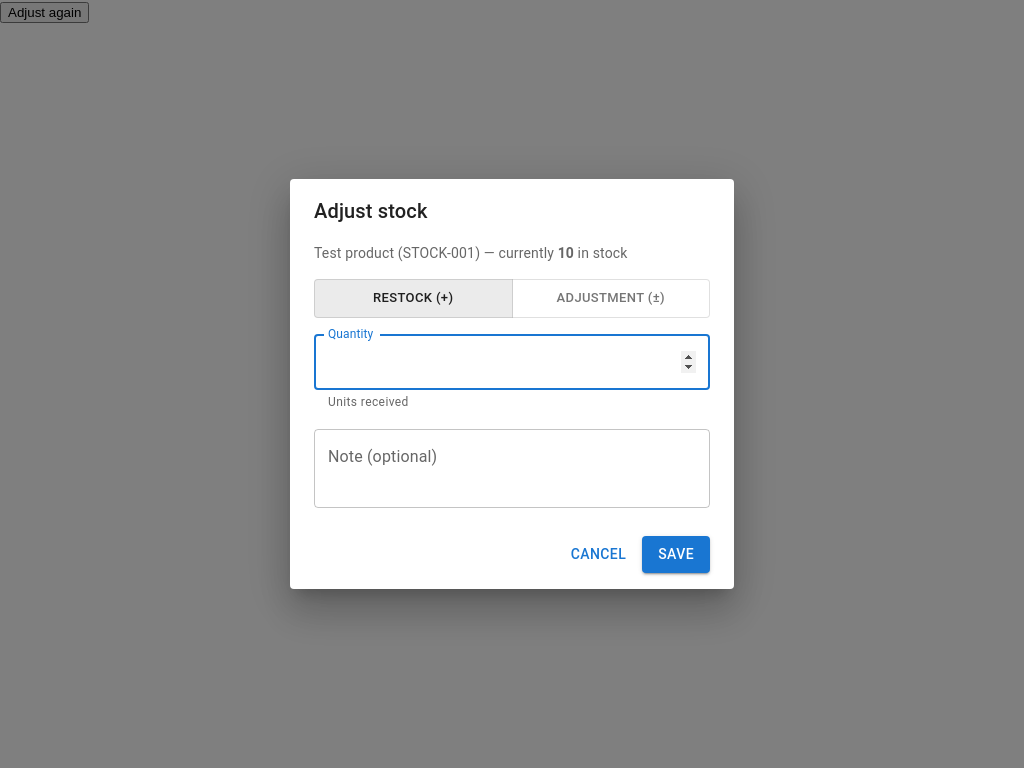
it: StockAdjustDialog › reuses the same idempotency key when retrying an uncertain failed response
Type "5" into the number field labelled "Quantity" at (512, 362), box [314,334,710,390]
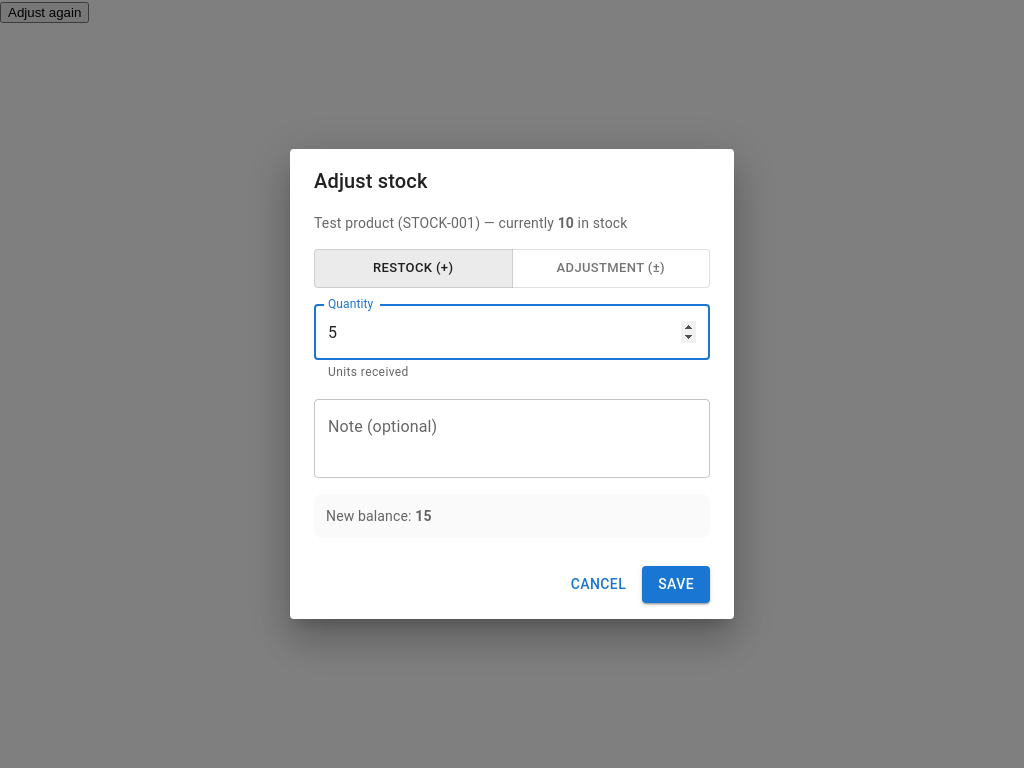
Click the button "Save" at (676, 584), box [642,566,710,603]
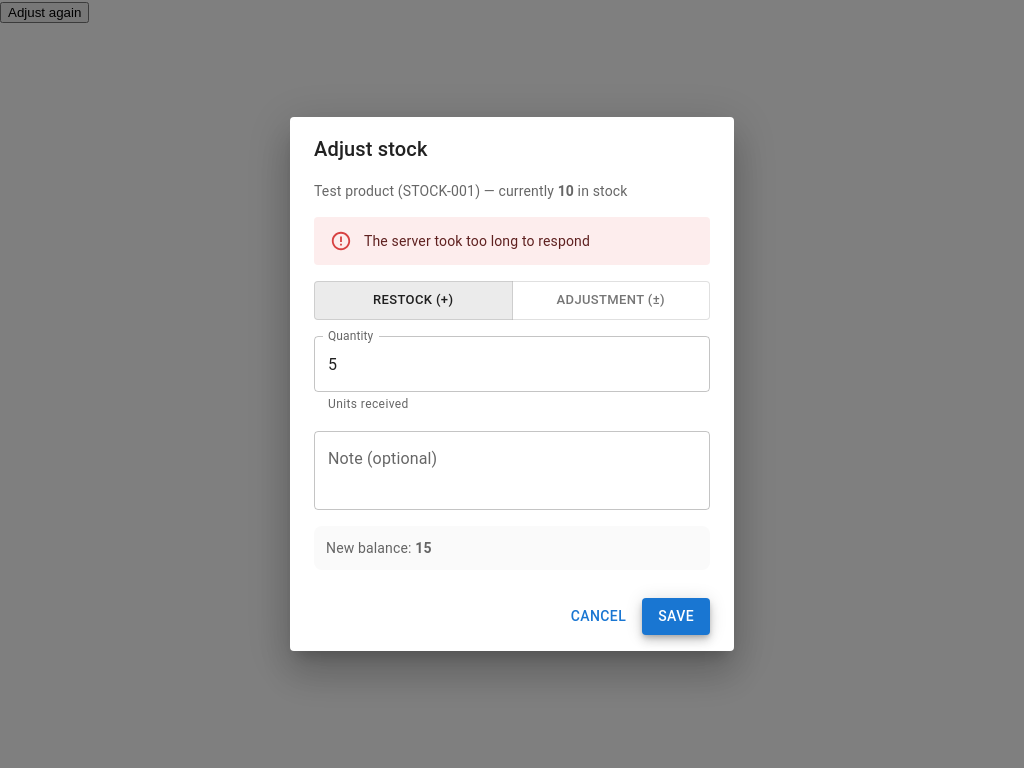
Expected: the message reads "The server took too long to respond", [364,233,590,249]
Click the button "Save" at (676, 616), box [642,598,710,635]
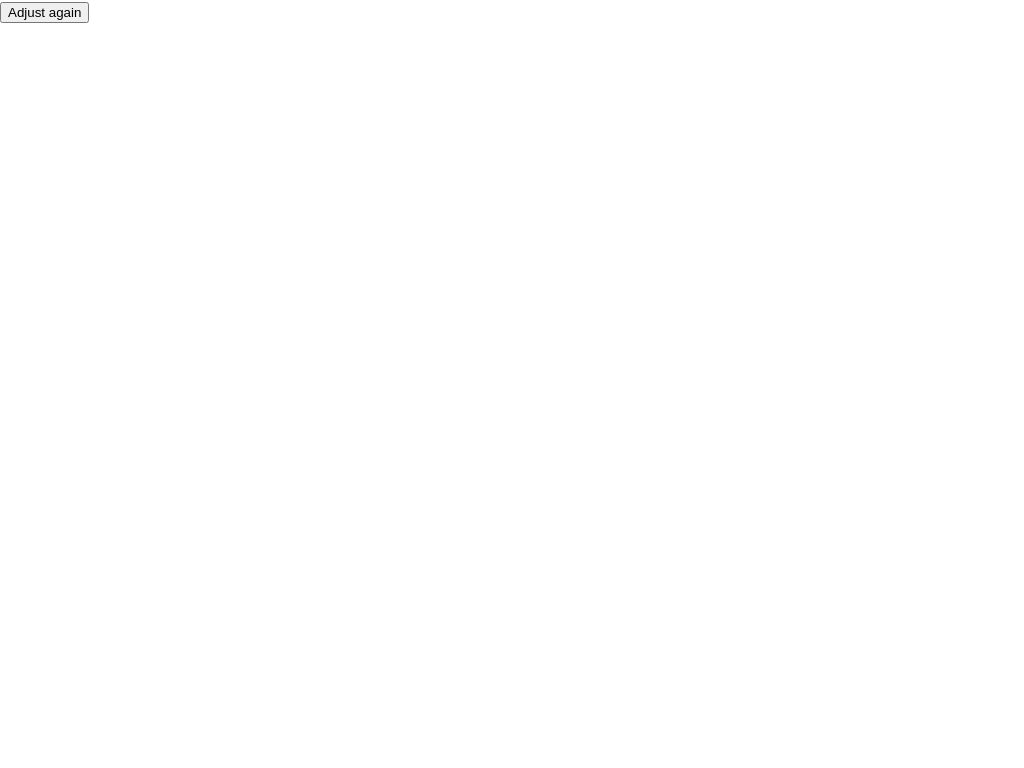
Expected: the dialog is gone
